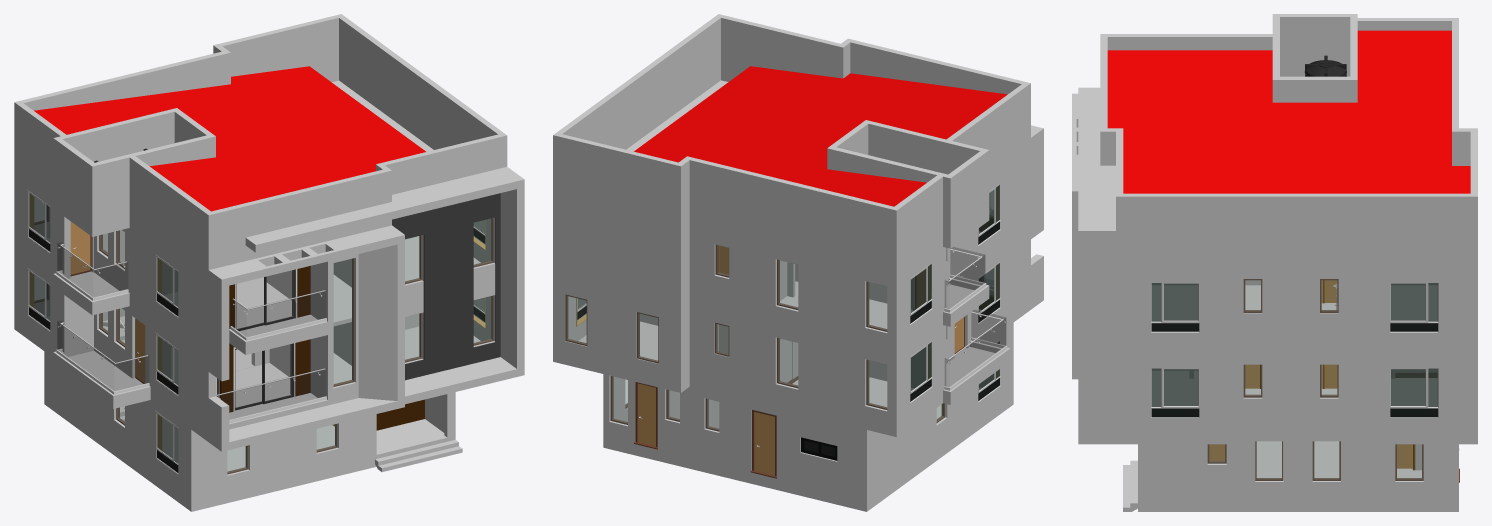
File: MunDun.glb
The picture shows the model from 3 angles, left to right: view 1: azimuth 30°, elevation 25°; view 2: azimuth 150°, elevation 25°; view 3: azimuth 270°, elevation 25°; orthographic projection. The views are drawn at different scales.
Parts seen in each view (by area): view 1: Mesh_0; view 2: Mesh_0; view 3: Mesh_0.
Boxes of the visible parts, x1,y1,x2,y2 form: Mesh_0: (14, 14, 524, 511); Mesh_0: (553, 14, 1043, 511); Mesh_0: (1072, 14, 1477, 511).
Size of the model in its own units: 13.77 by 11.85 by 12.92.
